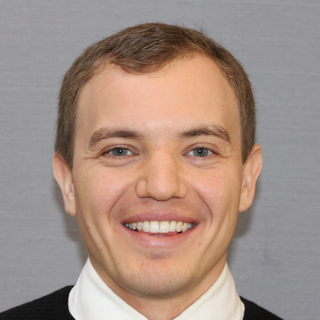eye: (177, 140, 224, 165), (96, 140, 144, 164)
